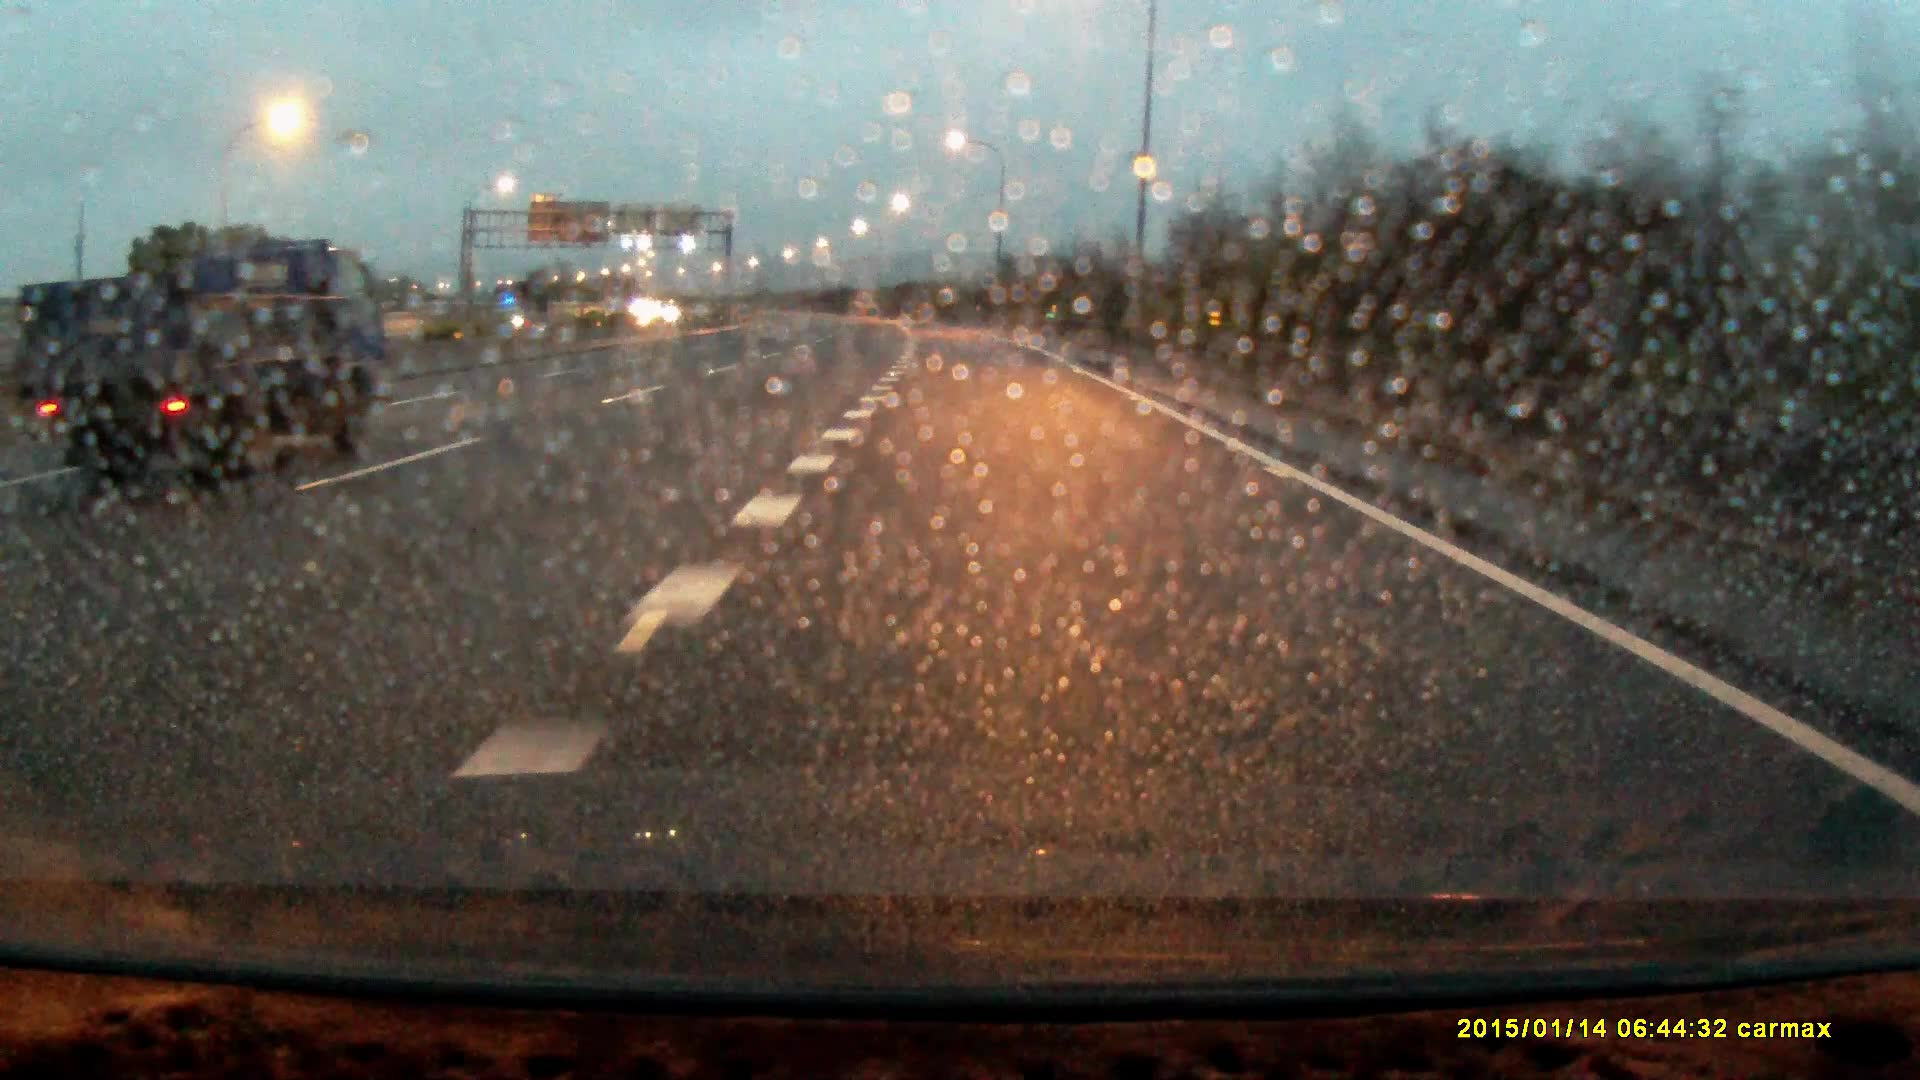vehicle: (20, 227, 382, 501)
